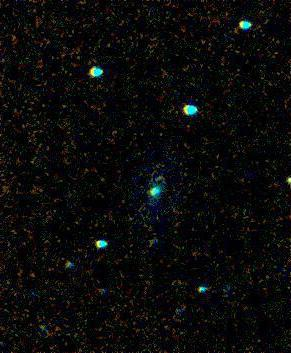star: (145, 162, 175, 192)
